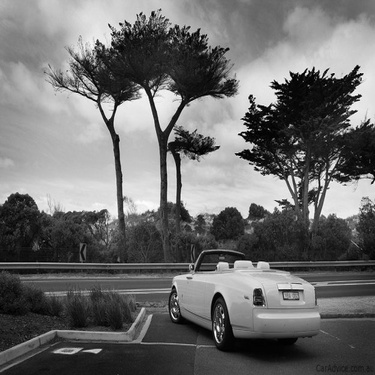car: (161, 236, 330, 342)
